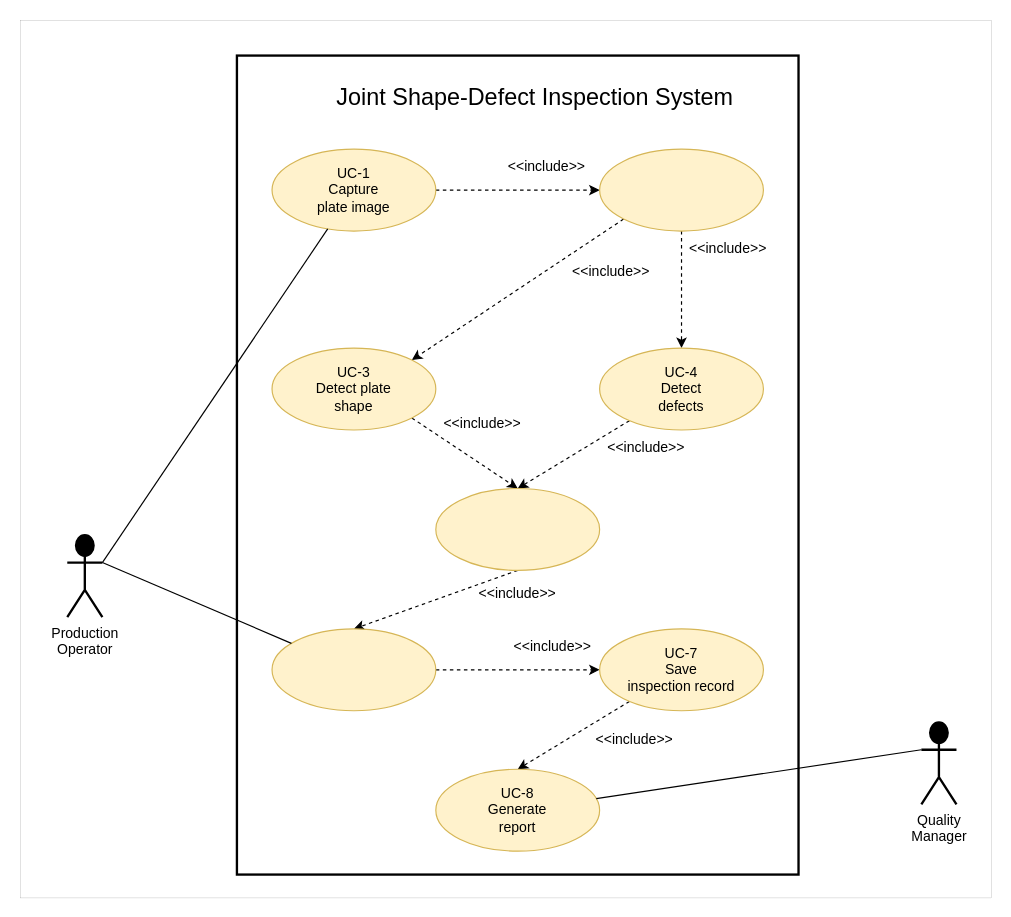
Image size: 1011x917. Some labels were removed from this diagram. Each missing label, with the centre of its shape:
"UC-2 Preprocess image" goes at pixel 680 189.
"UC-5 Apply per-class threshold" goes at pixel 517 528.
"UC-6 Decide Pass / Fail" goes at pixel 353 669.
